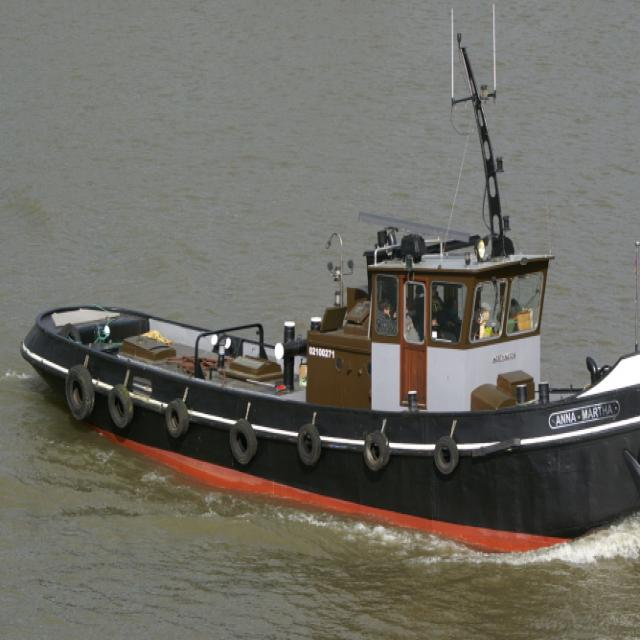tugboat: (17, 3, 640, 588)
